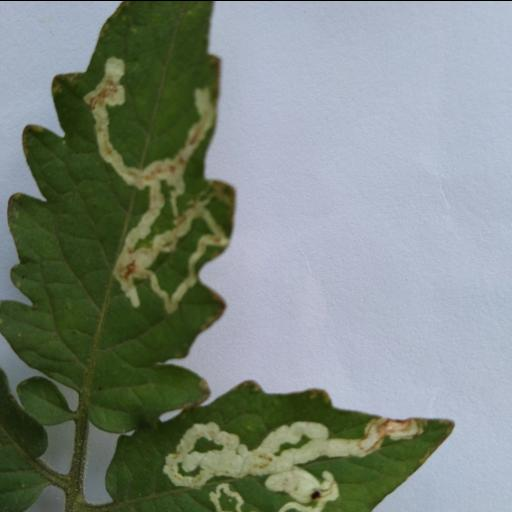disease_tomato: (0, 0, 236, 415), (104, 379, 456, 512)
